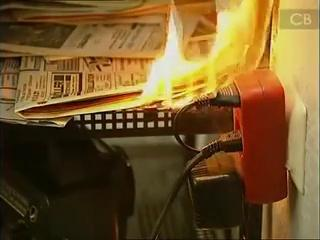Fire: (137, 0, 277, 109)
